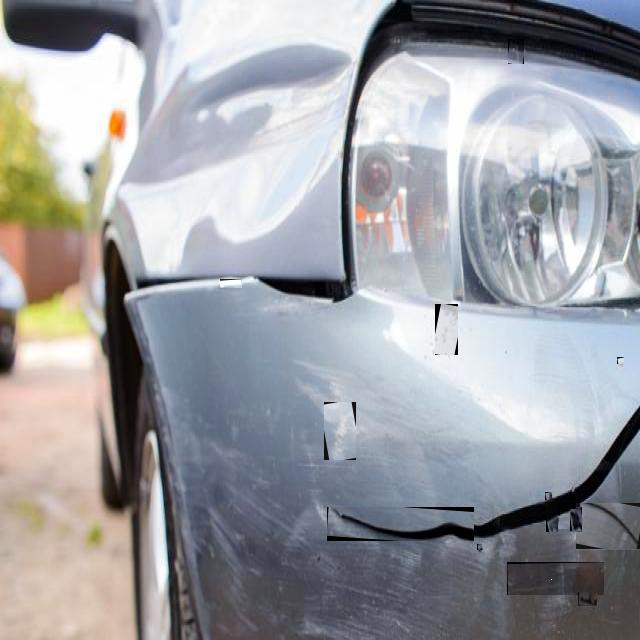Dent: (327, 507, 474, 541), (507, 562, 604, 595), (576, 504, 640, 552), (324, 402, 356, 460), (435, 304, 458, 355), (508, 39, 524, 64), (546, 502, 558, 532), (570, 509, 582, 534), (578, 592, 597, 606), (220, 279, 242, 288), (545, 492, 552, 500), (617, 357, 624, 364), (477, 544, 482, 550)
